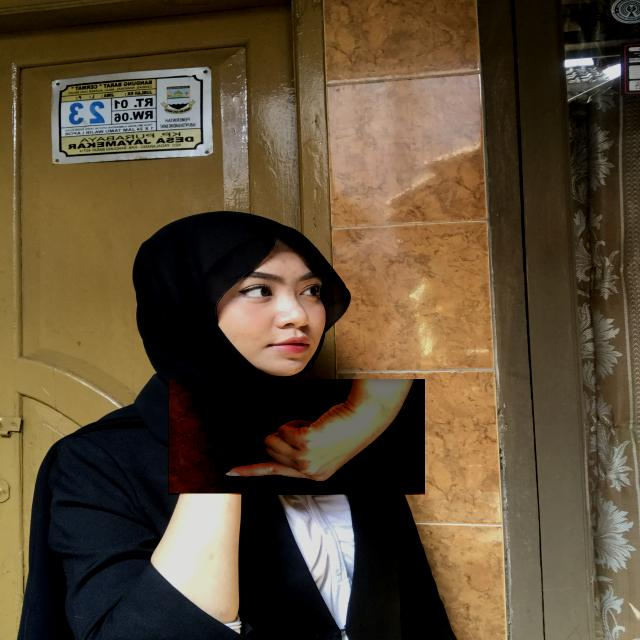kamu: (168, 380, 425, 496)
